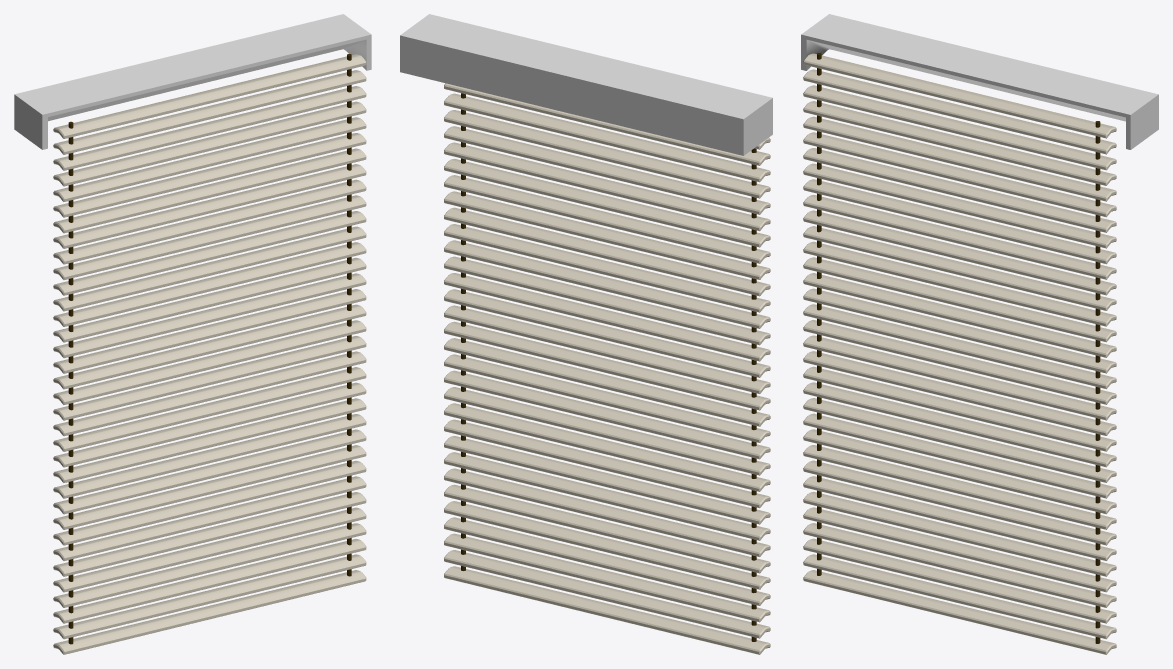
The model's file is blind_down.fbx.
The picture shows the model from 3 angles, left to right: view 1: azimuth 30°, elevation 25°; view 2: azimuth 150°, elevation 25°; view 3: azimuth 330°, elevation 25°; orthographic projection. The views are drawn at different scales.
Visible parts, largest first — view 1: cover, pCube37, pCube42, pCube27, pCube51, pCube52, pCube48, pCube45, pCube40, pCube35, pCube30, pCube29 (+25 smaller); view 2: cover, pCube34, pCube44, pCube41, pCube31, pCube24, pCube21, pCube47, pCube38, pCube28, pCube46, pCube45 (+22 smaller); view 3: cover, pCube45, pCube37, pCube48, pCube29, pCube34, pCube32, pCube26, pCube21, pCube53, pCube39, pCube35 (+25 smaller).
Boxes of the visible parts, x1,y1,x2,y2 form: cover: [14, 14, 371, 149]; pCube37: [53, 289, 366, 373]; pCube42: [53, 211, 366, 295]; pCube27: [53, 445, 366, 529]; pCube51: [53, 86, 366, 170]; pCube52: [53, 70, 366, 154]; pCube48: [53, 117, 366, 201]; pCube45: [53, 164, 366, 248]; pCube40: [53, 242, 366, 326]; pCube35: [53, 320, 366, 404]; pCube30: [53, 398, 366, 482]; pCube29: [53, 414, 366, 498]; cover: [400, 14, 772, 155]; pCube34: [444, 321, 770, 410]; pCube44: [444, 158, 770, 247]; pCube41: [444, 207, 770, 296]; pCube31: [444, 370, 770, 459]; pCube24: [444, 484, 770, 573]; pCube21: [444, 533, 770, 622]; pCube47: [444, 110, 770, 198]; pCube38: [444, 256, 770, 345]; pCube28: [444, 419, 770, 508]; pCube46: [444, 126, 770, 214]; pCube45: [444, 142, 770, 231]; cover: [801, 14, 1158, 149]; pCube45: [803, 163, 1116, 248]; pCube37: [803, 288, 1116, 373]; pCube48: [803, 116, 1116, 201]; pCube29: [803, 413, 1116, 498]; pCube34: [803, 335, 1116, 420]; pCube32: [803, 366, 1116, 451]; pCube26: [803, 460, 1116, 545]; pCube21: [803, 538, 1116, 623]; pCube53: [803, 53, 1116, 138]; pCube39: [803, 257, 1116, 342]; pCube35: [803, 320, 1116, 404].
Bounding box in the file's own units: 9.64 × 15.01 × 1.91.
